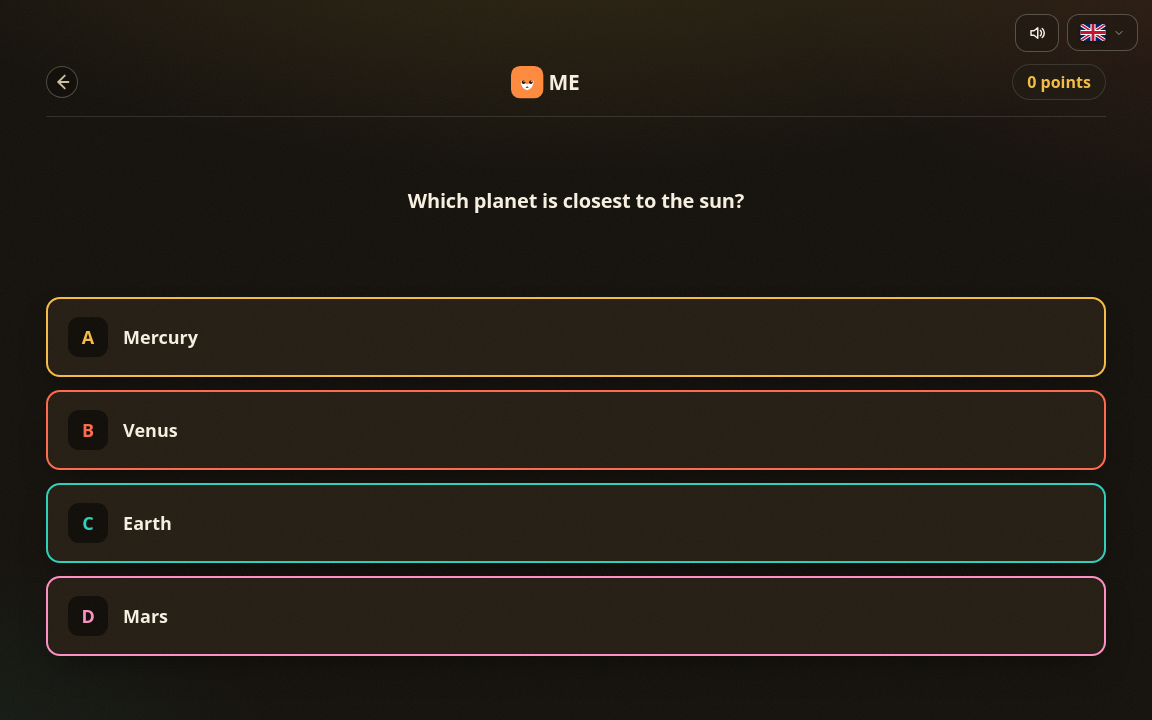
Test case: PlayerScreen trivia answering › unlocks the options again if the server refuses the answer
Click the button "A Mercury" at (88, 337), box [46,297,1106,377]
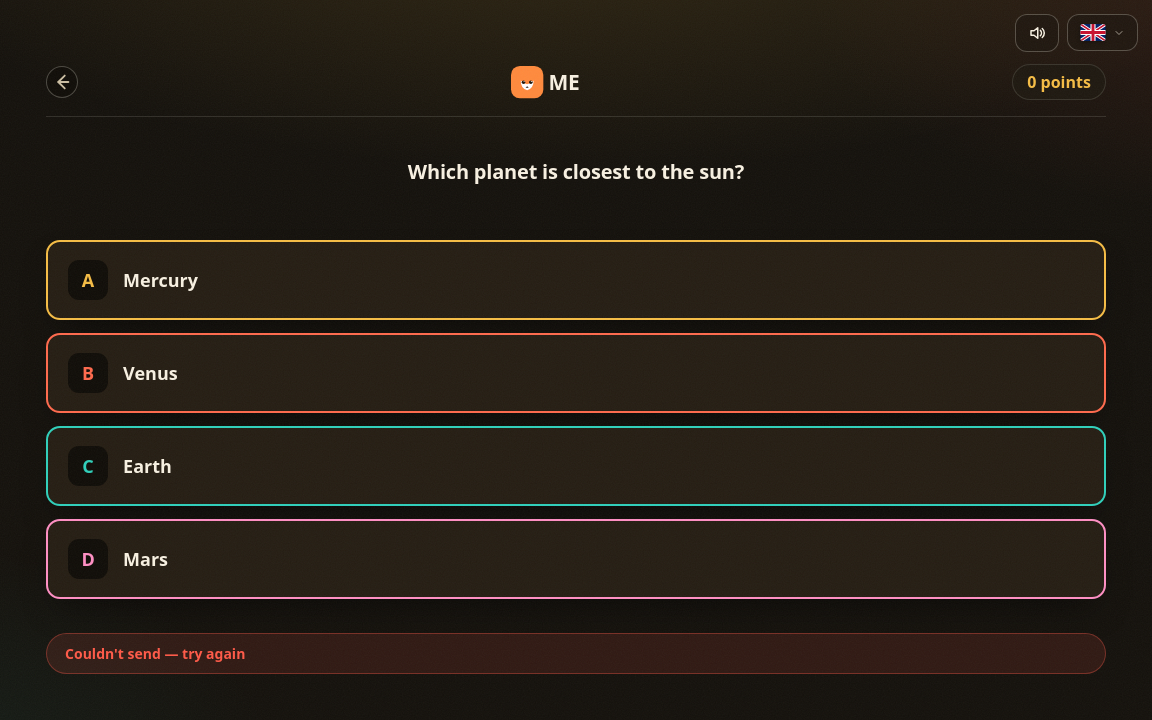
Expected: the button "B Venus" is shown, [46,333,1106,413]
Expected: the message "Couldn't send — try again" is shown, [46,633,1106,674]
